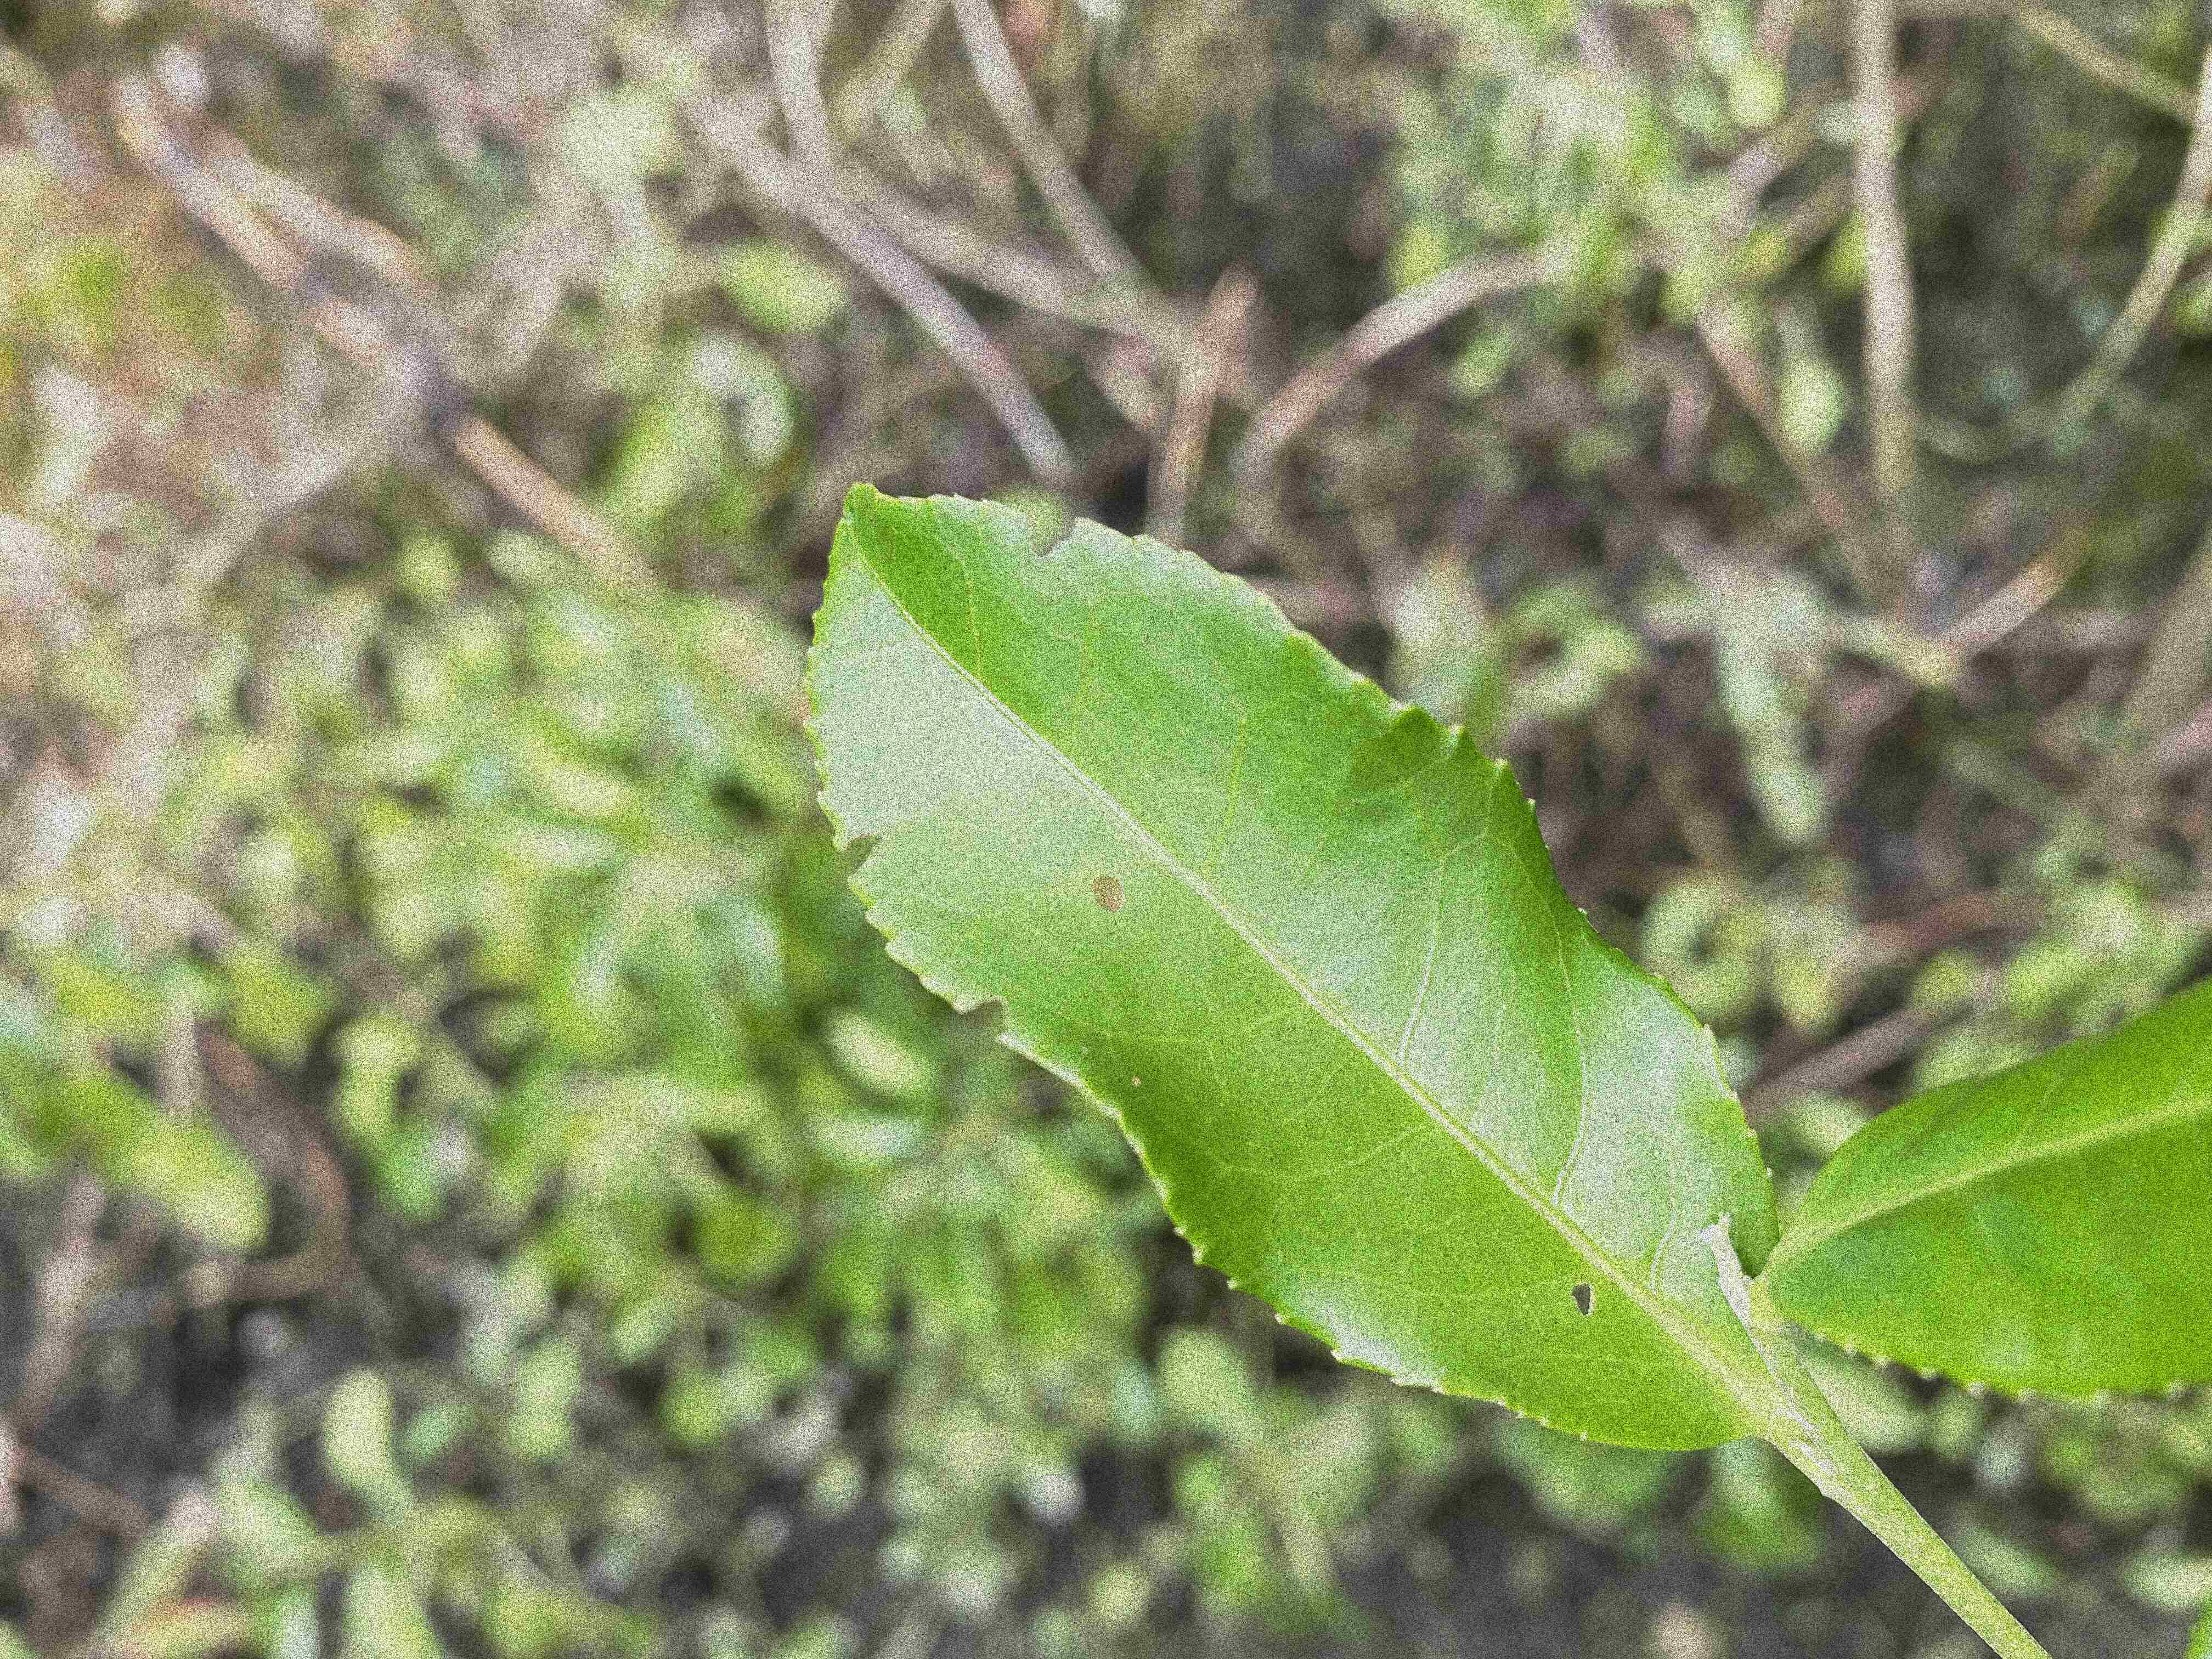chihuo_high: (798, 481, 1782, 1452)
healthy: (1773, 979, 2209, 1410)
